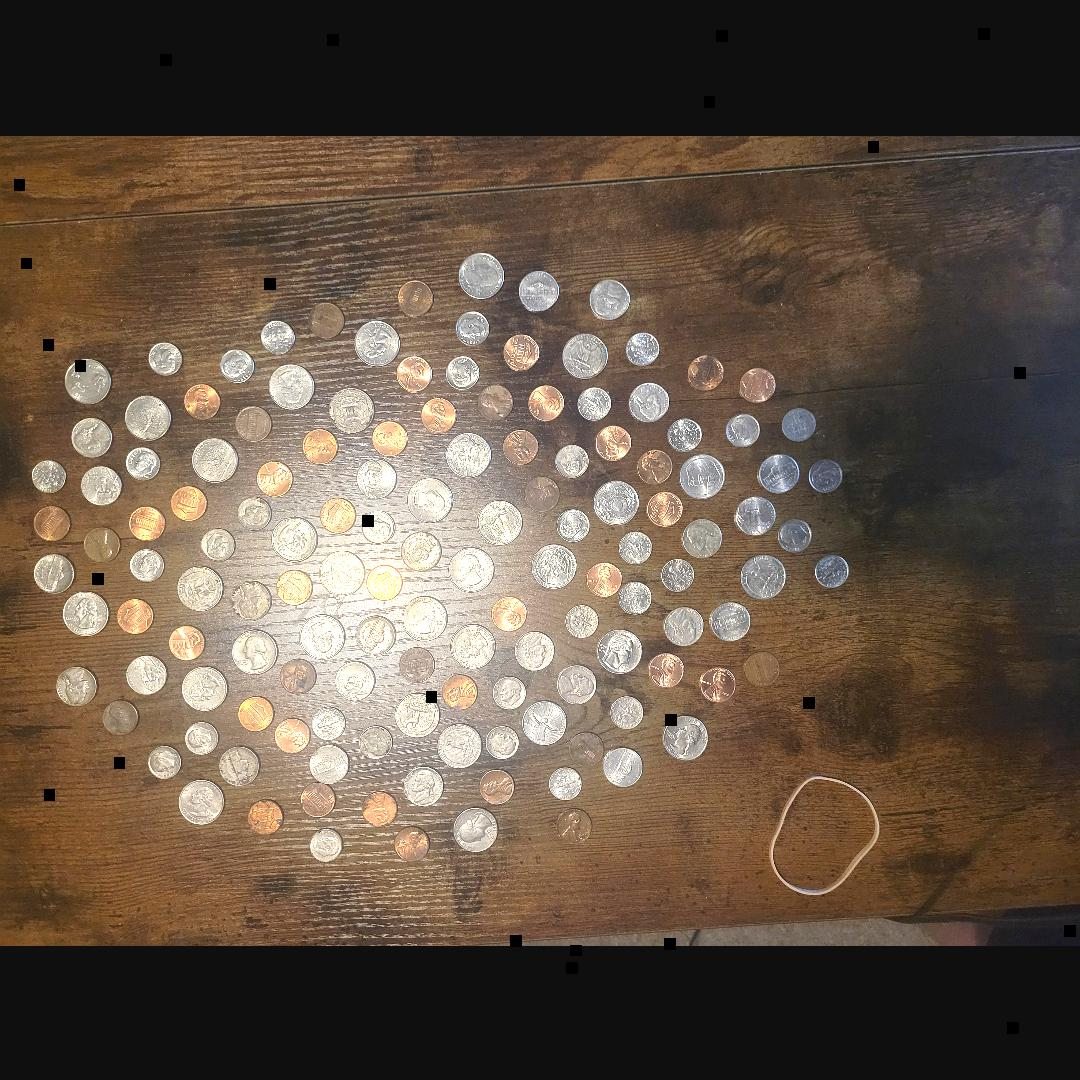Dime: (357, 721, 393, 761), (556, 441, 590, 476), (813, 553, 850, 585), (666, 416, 700, 450), (32, 458, 66, 492), (724, 412, 758, 446), (446, 354, 480, 388), (609, 692, 643, 726), (780, 407, 816, 439), (625, 331, 661, 363), (125, 446, 161, 478), (618, 530, 651, 564), (661, 558, 694, 592), (565, 603, 599, 636), (312, 705, 346, 738), (219, 350, 254, 382), (620, 581, 653, 614), (808, 457, 842, 489), (130, 548, 164, 580), (558, 506, 590, 540), (546, 766, 580, 798), (492, 675, 524, 708), (202, 528, 236, 559), (148, 747, 182, 778), (778, 518, 810, 550), (578, 387, 610, 419), (262, 321, 294, 353), (457, 310, 489, 342), (188, 721, 220, 753), (486, 726, 518, 758), (310, 828, 344, 858), (150, 344, 182, 374), (362, 512, 394, 542), (241, 498, 271, 528)
Nickel: (600, 743, 644, 787), (514, 270, 558, 311), (81, 462, 123, 504), (736, 494, 778, 534), (122, 653, 166, 691), (629, 380, 673, 418), (72, 417, 114, 456), (34, 551, 76, 590), (512, 630, 552, 670), (355, 614, 395, 654), (400, 531, 440, 571), (760, 452, 802, 490), (592, 279, 634, 317), (58, 666, 98, 705), (684, 520, 725, 558), (310, 744, 351, 782), (556, 663, 596, 701), (662, 606, 704, 642), (358, 458, 394, 500), (336, 659, 375, 697), (220, 747, 260, 784), (232, 580, 272, 617), (714, 600, 752, 638), (403, 766, 441, 804)
Penny: (568, 728, 608, 768), (554, 806, 594, 844), (417, 394, 455, 432), (301, 424, 341, 460), (502, 330, 540, 367), (524, 475, 560, 514), (114, 596, 152, 632), (167, 625, 205, 661), (184, 382, 223, 417), (399, 644, 433, 684), (397, 354, 432, 392), (526, 385, 562, 421), (32, 504, 68, 540), (597, 421, 633, 457), (279, 658, 315, 694), (273, 716, 309, 752), (586, 560, 622, 596), (127, 504, 163, 540), (476, 384, 512, 420), (256, 460, 292, 496), (170, 484, 206, 520), (636, 449, 672, 485), (238, 694, 276, 728), (741, 366, 777, 400), (374, 418, 408, 454), (322, 496, 356, 532), (310, 302, 344, 338), (84, 526, 118, 562), (399, 279, 435, 313), (502, 426, 536, 462), (361, 790, 397, 824), (687, 354, 723, 388), (493, 594, 527, 630), (649, 651, 685, 685), (302, 778, 336, 813), (238, 406, 272, 440), (250, 799, 284, 833), (276, 570, 310, 604), (650, 491, 684, 525), (442, 674, 476, 708), (368, 563, 400, 599), (102, 700, 136, 733), (394, 826, 428, 858), (480, 769, 512, 801), (747, 653, 780, 683), (705, 666, 737, 696)
Quarter: (560, 331, 608, 377), (477, 498, 525, 544), (61, 590, 107, 636), (353, 320, 399, 366), (438, 720, 484, 766), (408, 476, 454, 522), (451, 806, 497, 850), (661, 715, 707, 759), (272, 515, 316, 561), (300, 612, 344, 658), (181, 778, 229, 820), (182, 666, 230, 708), (127, 396, 174, 438), (69, 358, 113, 402), (180, 567, 224, 611), (331, 386, 375, 430), (452, 623, 496, 667), (446, 434, 490, 478), (396, 692, 440, 736), (679, 454, 725, 496), (596, 480, 642, 522), (740, 552, 786, 594), (193, 438, 239, 480), (236, 631, 280, 674), (458, 254, 502, 296), (322, 550, 366, 592), (451, 548, 493, 590), (269, 364, 313, 404), (598, 630, 642, 669), (521, 702, 563, 742), (535, 545, 575, 586), (404, 597, 444, 637)
